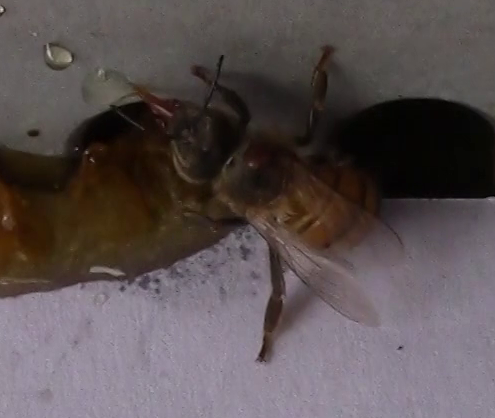Varroa destructor: (243, 147, 284, 177)
